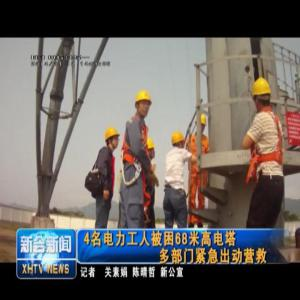yellow: (252, 77, 273, 111), (135, 91, 153, 120), (104, 127, 122, 152), (170, 131, 187, 151), (146, 138, 157, 161), (196, 114, 208, 134)
